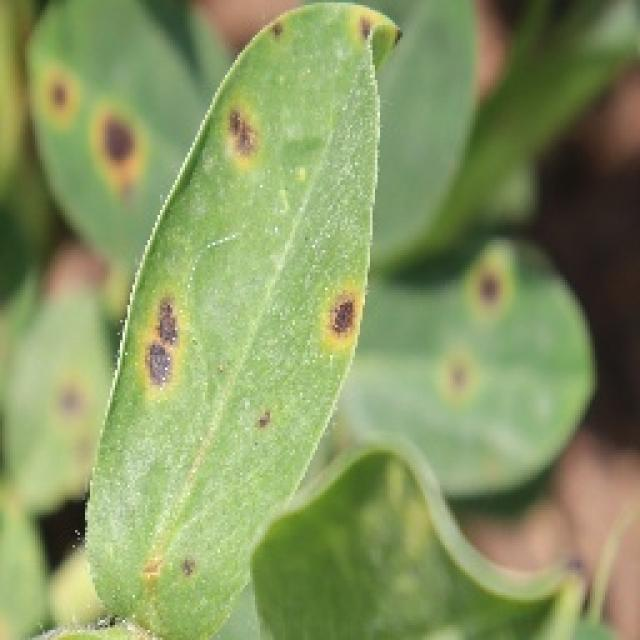Early_leaf_spot: (18, 67, 139, 187), (102, 254, 194, 410), (421, 337, 523, 439), (448, 233, 514, 329), (201, 92, 272, 170), (230, 389, 287, 465), (125, 562, 215, 606), (318, 274, 369, 350), (263, 0, 315, 70), (339, 0, 395, 64)
